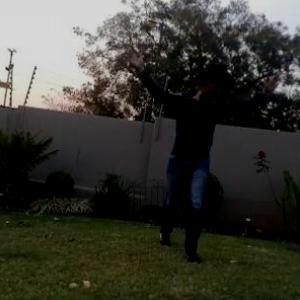takeoff: (128, 45, 291, 256)
